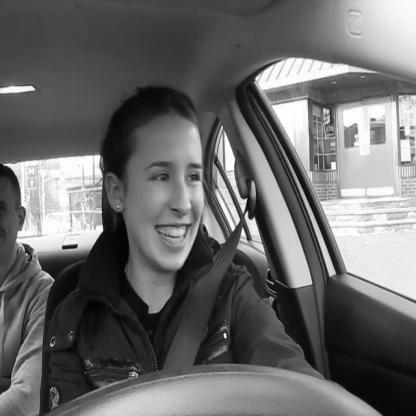seatbelt: (97, 61, 277, 372)
